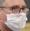with_mask: (1, 2, 30, 31)
